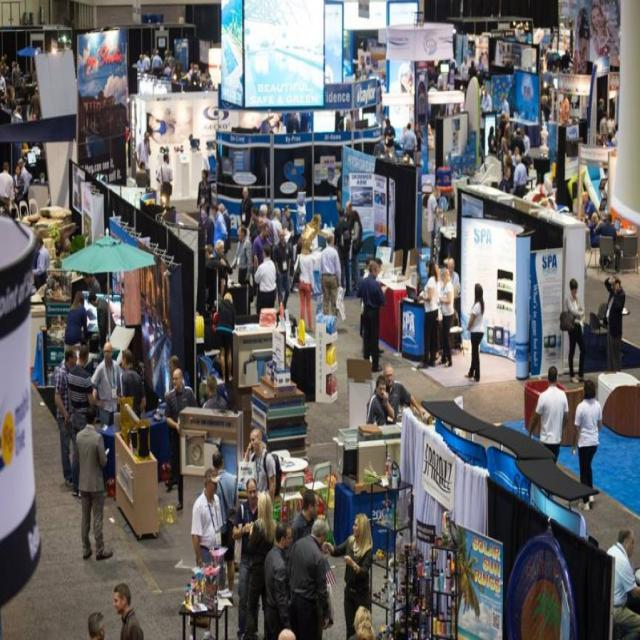body: (321, 511, 374, 640), (73, 403, 114, 563), (202, 602, 378, 639), (286, 515, 331, 640), (240, 491, 277, 640), (0, 49, 45, 170), (544, 3, 619, 75), (569, 376, 606, 514), (163, 367, 198, 512), (540, 86, 619, 150), (66, 343, 98, 499), (600, 522, 640, 639), (231, 475, 259, 640), (132, 45, 222, 95), (528, 364, 570, 466), (479, 91, 533, 169), (354, 258, 388, 373), (263, 520, 294, 640), (212, 450, 238, 592), (556, 276, 589, 385), (54, 346, 79, 488), (190, 466, 223, 568), (116, 346, 147, 454), (90, 340, 125, 429), (415, 255, 441, 370), (382, 361, 428, 424), (241, 427, 278, 505), (425, 52, 497, 92), (258, 110, 363, 136), (144, 102, 192, 151), (464, 281, 486, 384), (603, 274, 626, 372), (271, 225, 295, 318), (63, 288, 91, 366), (294, 235, 316, 334), (214, 291, 236, 386), (319, 232, 342, 318), (253, 245, 278, 324), (437, 267, 456, 368), (343, 198, 363, 292), (112, 582, 144, 640), (252, 204, 296, 245), (87, 288, 117, 348), (333, 206, 352, 298), (290, 488, 320, 544), (365, 375, 397, 427), (238, 182, 256, 269), (296, 212, 330, 257), (446, 257, 462, 351), (155, 152, 175, 226), (230, 224, 253, 286), (426, 185, 442, 272), (14, 157, 34, 225), (30, 235, 50, 302), (375, 255, 387, 360), (214, 238, 233, 302), (162, 356, 188, 401), (211, 198, 228, 260), (201, 375, 229, 410), (136, 130, 152, 190), (10, 162, 26, 219), (253, 221, 273, 266), (394, 59, 416, 99), (217, 202, 232, 260), (358, 259, 369, 337), (512, 152, 528, 200), (401, 122, 418, 167), (0, 160, 15, 211), (196, 169, 213, 208), (198, 206, 214, 246), (381, 117, 396, 158), (599, 212, 617, 244), (87, 610, 106, 640), (414, 121, 425, 165), (587, 212, 600, 249), (356, 54, 374, 80), (134, 160, 150, 188), (83, 271, 102, 294), (498, 164, 512, 194), (426, 120, 434, 155), (204, 242, 215, 258)
